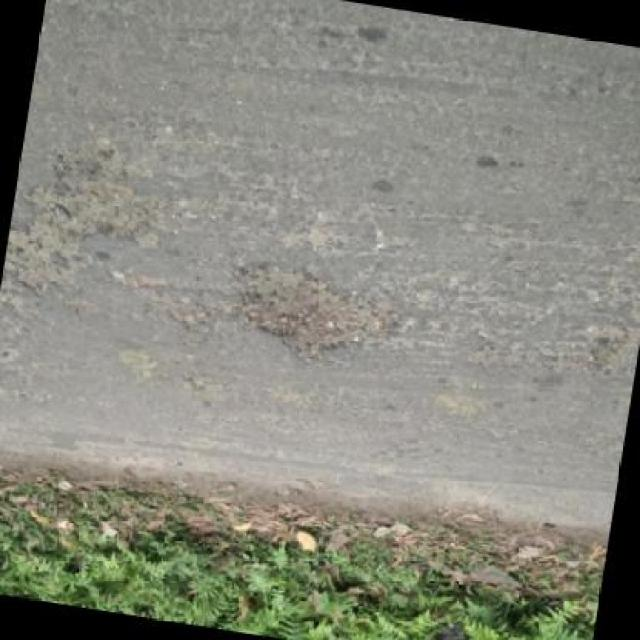pothole: (225, 257, 408, 374), (20, 158, 165, 248), (1, 229, 77, 296)
